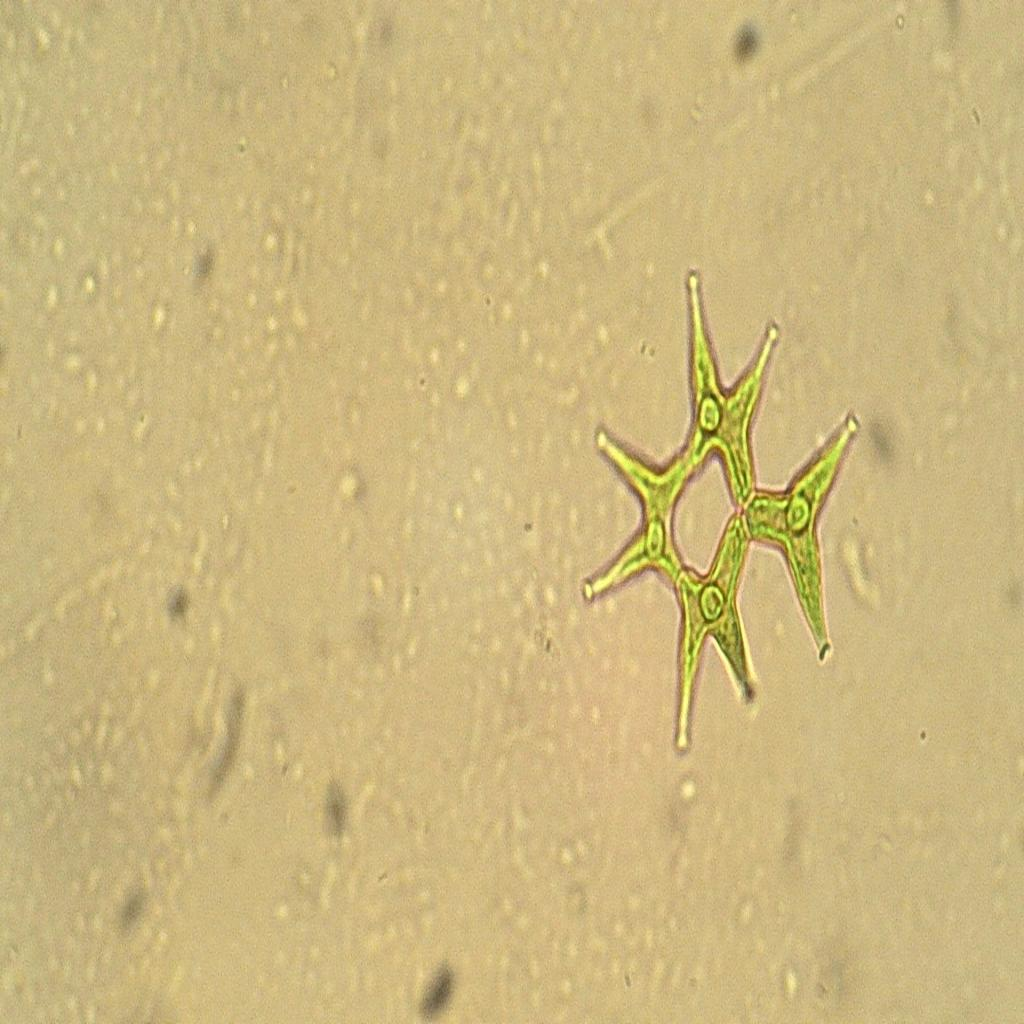Pediastrum_CT: (572, 265, 870, 777)
